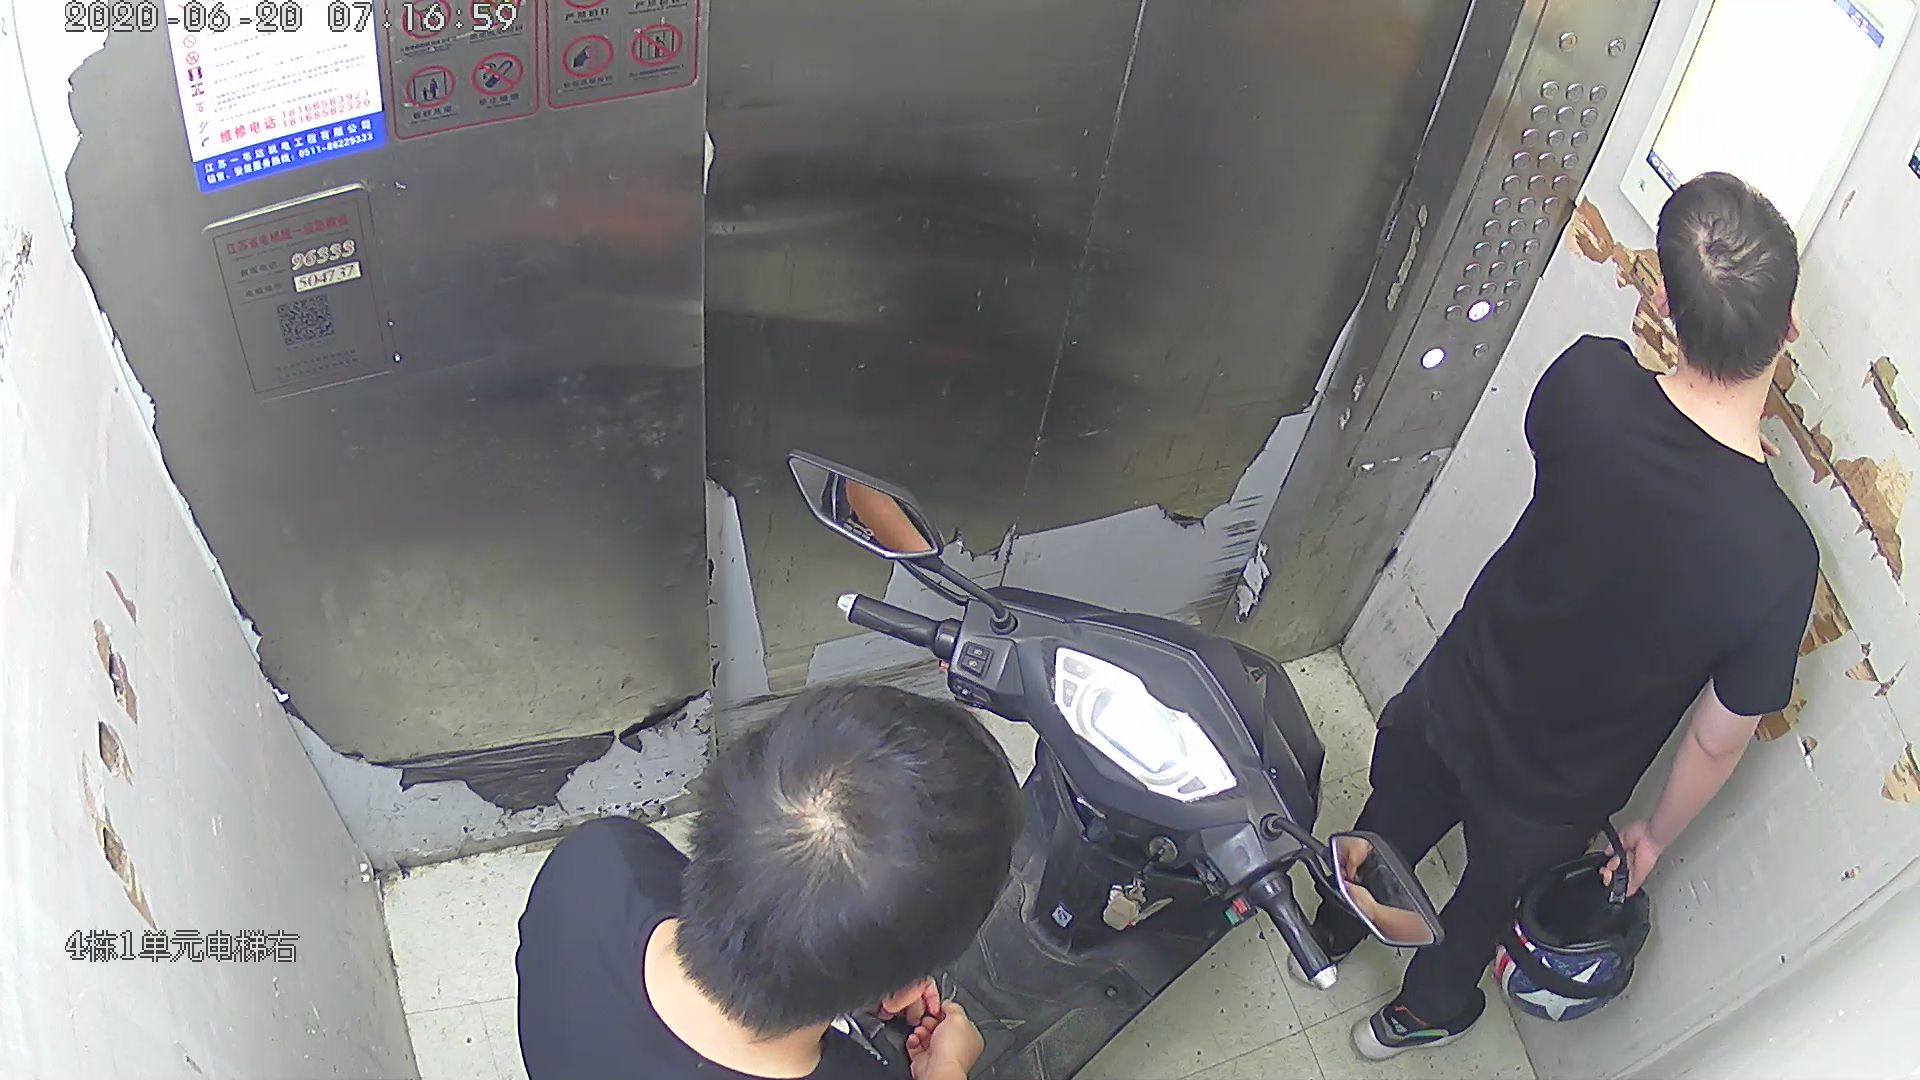Electric-bicycle: (786, 452, 1441, 1080)
